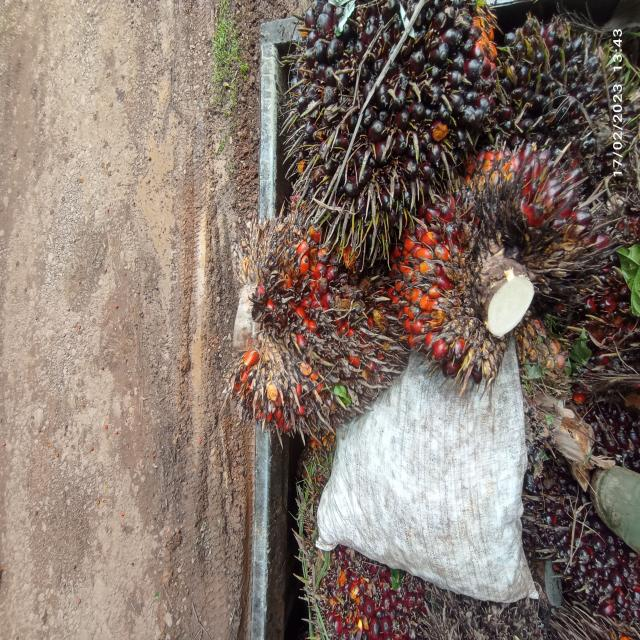fraksi 00: (291, 0, 507, 272), (490, 4, 626, 198)
fraksi 3: (392, 134, 592, 398)
fraksi 4: (216, 209, 409, 453)
